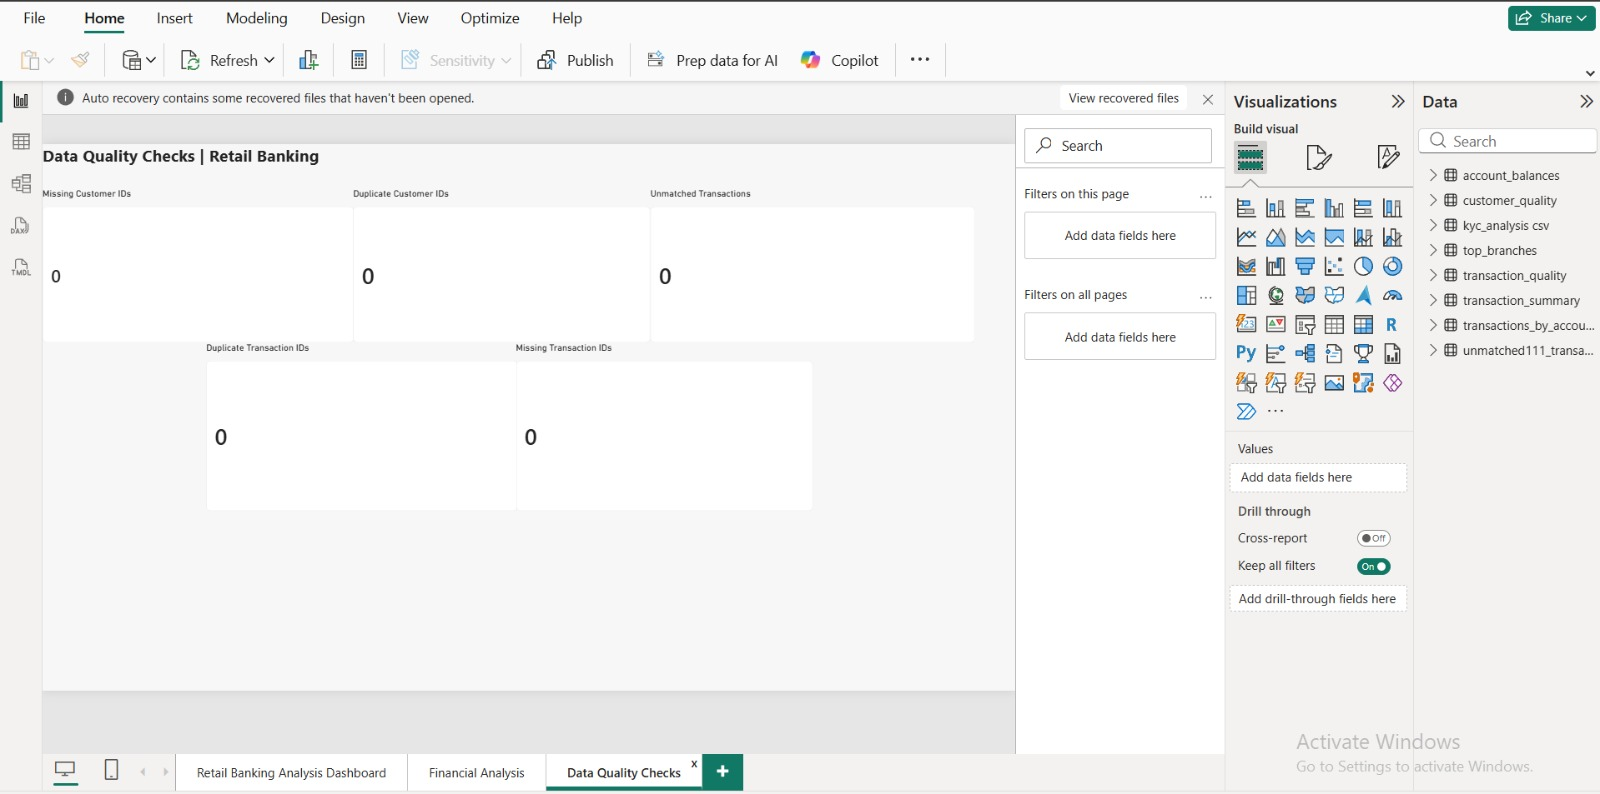

Layout of this report page (visuals, bound fields, positions):
{"tool":"powerbi","page":{"name":"Data Quality Checks","canvas":[1920,1080],"ordinal":2},"visuals":[{"type":"cardVisual","title":"Missing Customer IDs","fields":{"Data":["Sum(customer_quality.missing_customer_ids)"]},"box":[0,86,614,306],"z":0},{"type":"cardVisual","title":"Duplicate Customer IDs","fields":{"Data":["Sum(customer_quality.duplicate_customer_ids)"]},"box":[614,86,586,306],"z":1},{"type":"cardVisual","title":"Missing Transaction IDs","fields":{"Data":["Sum(transaction_quality.missing_transaction_ids)"]},"box":[934,392,586,334],"z":2},{"type":"cardVisual","title":"Duplicate Transaction IDs","fields":{"Data":["Sum(transaction_quality.duplicate_transaction_ids)"]},"box":[324,392,614,334],"z":3},{"type":"cardVisual","title":"Unmatched Transactions","fields":{"Data":["Sum(unmatched111_transactions.unmatched_transactions)"]},"box":[1200,86,640,306],"z":4},{"type":"textbox","box":[0,0,1876,60],"z":5}]}

Visuals, with their boxes on the page's 1920x1080 design canvas (x1, y1, x2, y2). These are canvas units, not pixel positions in the 1600x794 screenshot, which may show the page scaled, cropped or inside an application window:
"Missing Customer IDs" cardVisual: (0,86,614,392)
"Duplicate Customer IDs" cardVisual: (614,86,1200,392)
"Missing Transaction IDs" cardVisual: (934,392,1520,726)
"Duplicate Transaction IDs" cardVisual: (324,392,938,726)
"Unmatched Transactions" cardVisual: (1200,86,1840,392)
textbox: (0,0,1876,60)
